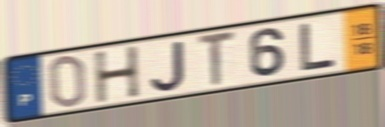0: (46, 54, 88, 110)
6: (248, 26, 288, 79)
H: (92, 43, 143, 105)
J: (149, 39, 188, 93)
L: (297, 20, 339, 74)
T: (196, 28, 238, 90)
